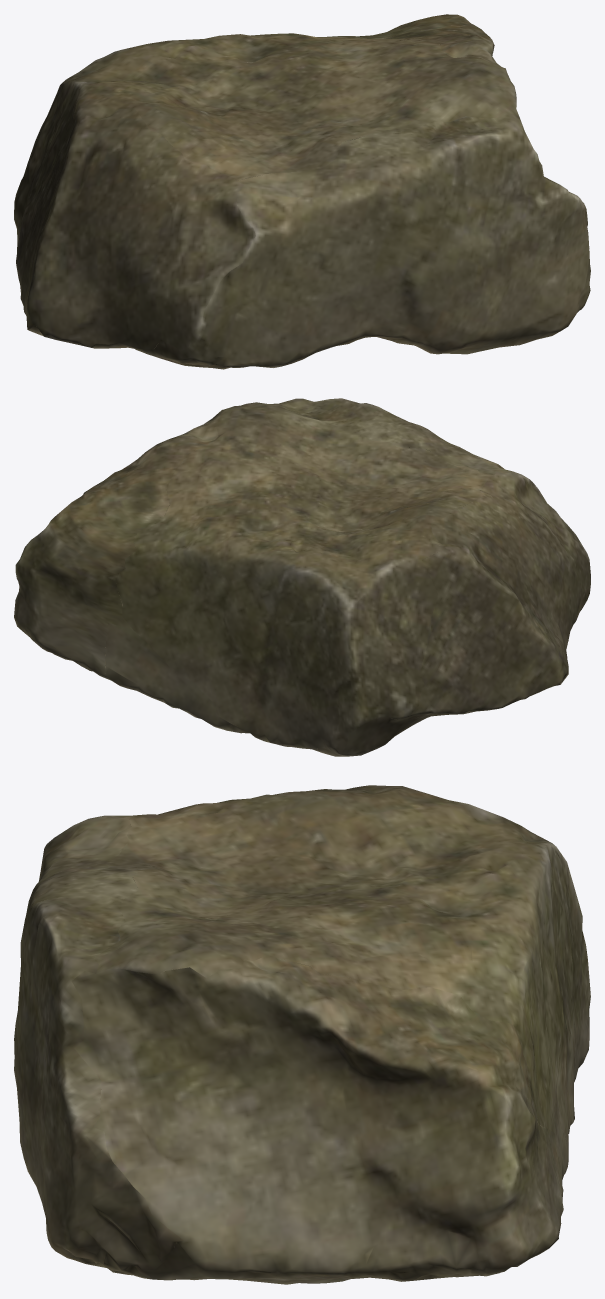
Rendered from moss_stone_7.glb.
3 views of the same model, one above another, from view 1: azimuth 30°, elevation 25°; view 2: azimuth 150°, elevation 25°; view 3: azimuth 270°, elevation 25° (orthographic). The views are drawn at different scales.
Parts seen in each view (by area): view 1: moss_stone_7; view 2: moss_stone_7; view 3: moss_stone_7.
Boxes of the visible parts, x1=… form: moss_stone_7: x1=14, y1=14, x2=590, y2=369; moss_stone_7: x1=14, y1=398, x2=590, y2=756; moss_stone_7: x1=14, y1=785, x2=590, y2=1284.
Bounding box in the file's own units: 1 × 0.4398 × 0.7175.
1 material, 1 textured.
